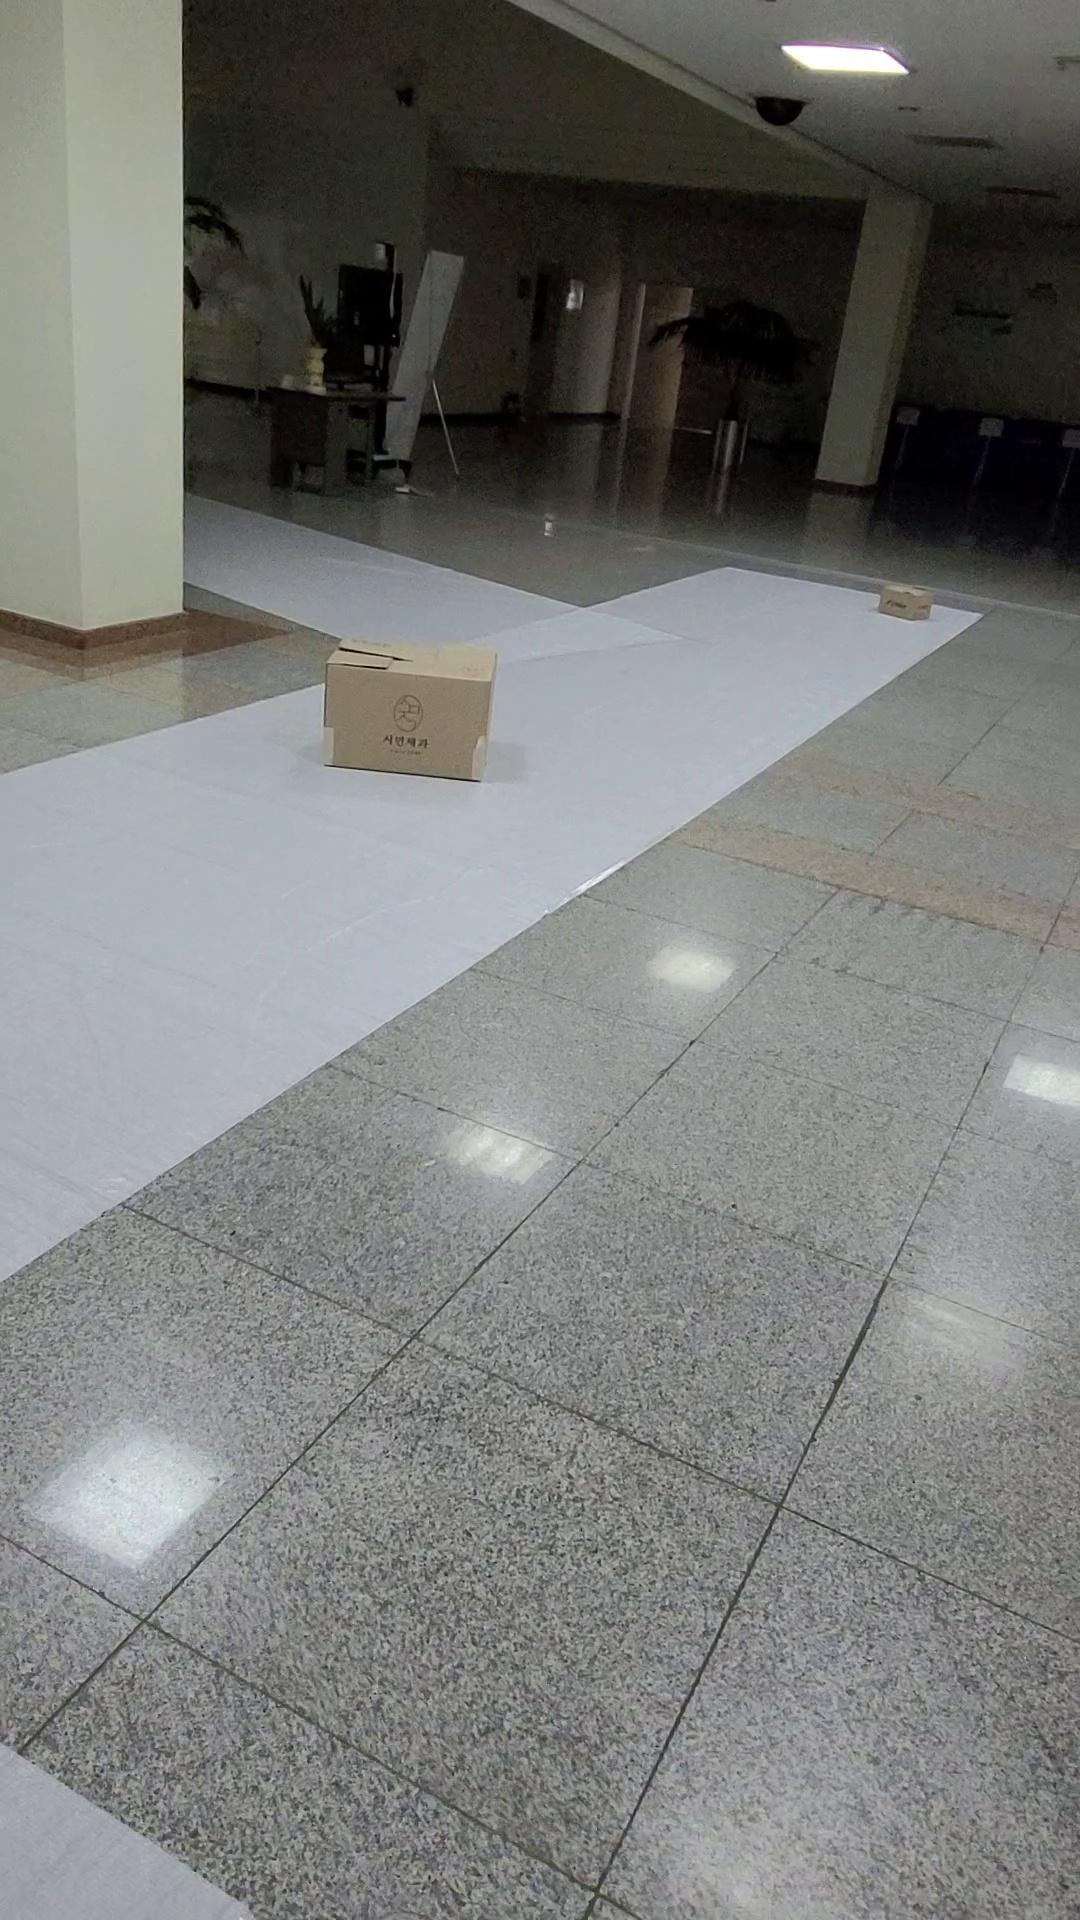Box: (272, 613, 538, 804), (825, 550, 972, 651)
